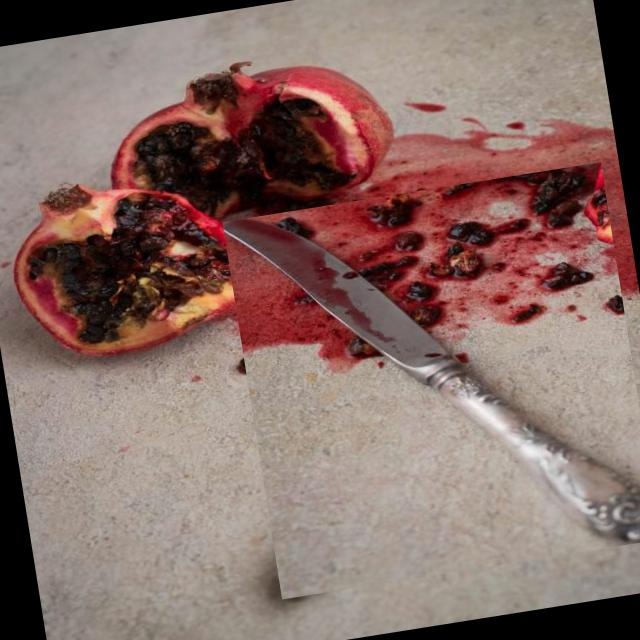Knife: (223, 219, 640, 543)
